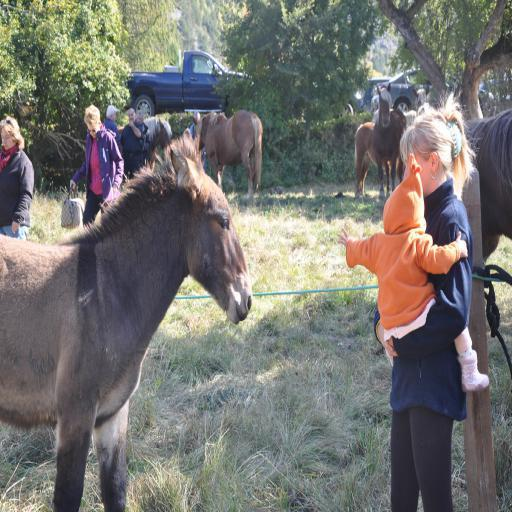horse: (0, 126, 252, 512), (460, 106, 512, 262), (192, 112, 264, 206), (354, 113, 414, 198), (372, 81, 407, 202)
